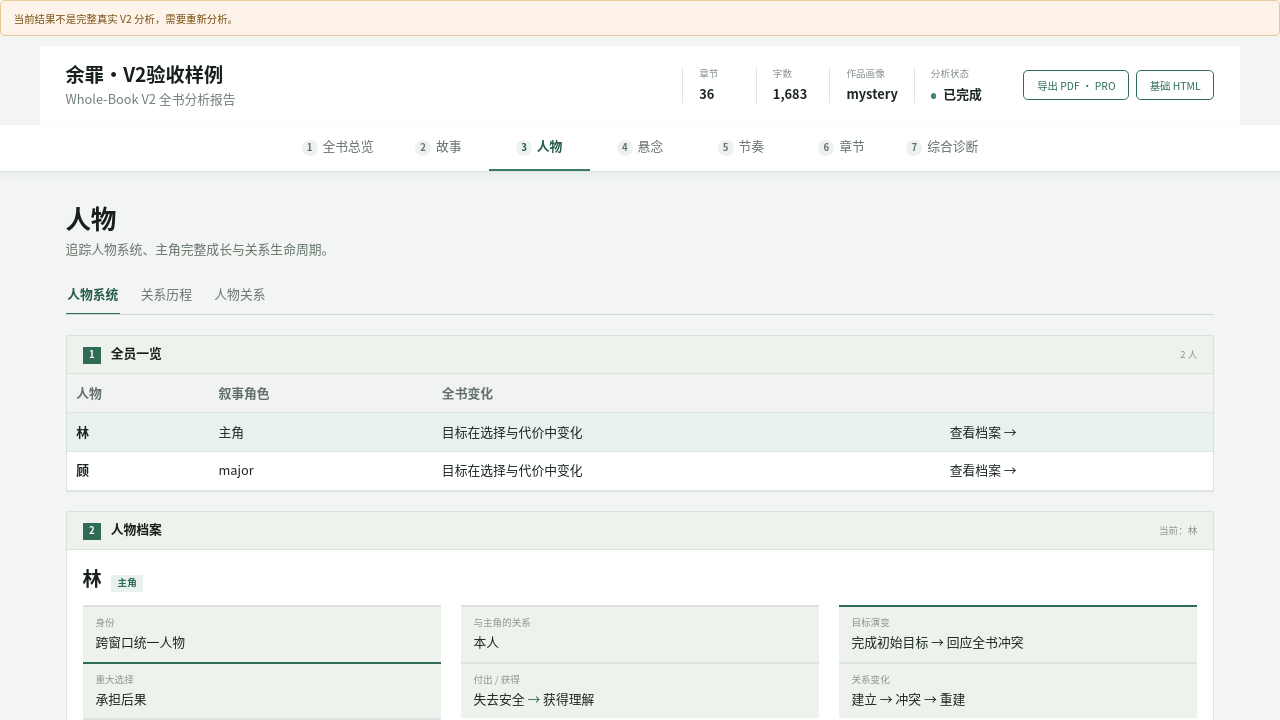
it: 历程图本身 › 旧报告没有 down 字段时，按数值判断跌在哪
Click the button "关系历程" at [166, 294], box 139,275 -> 194,314
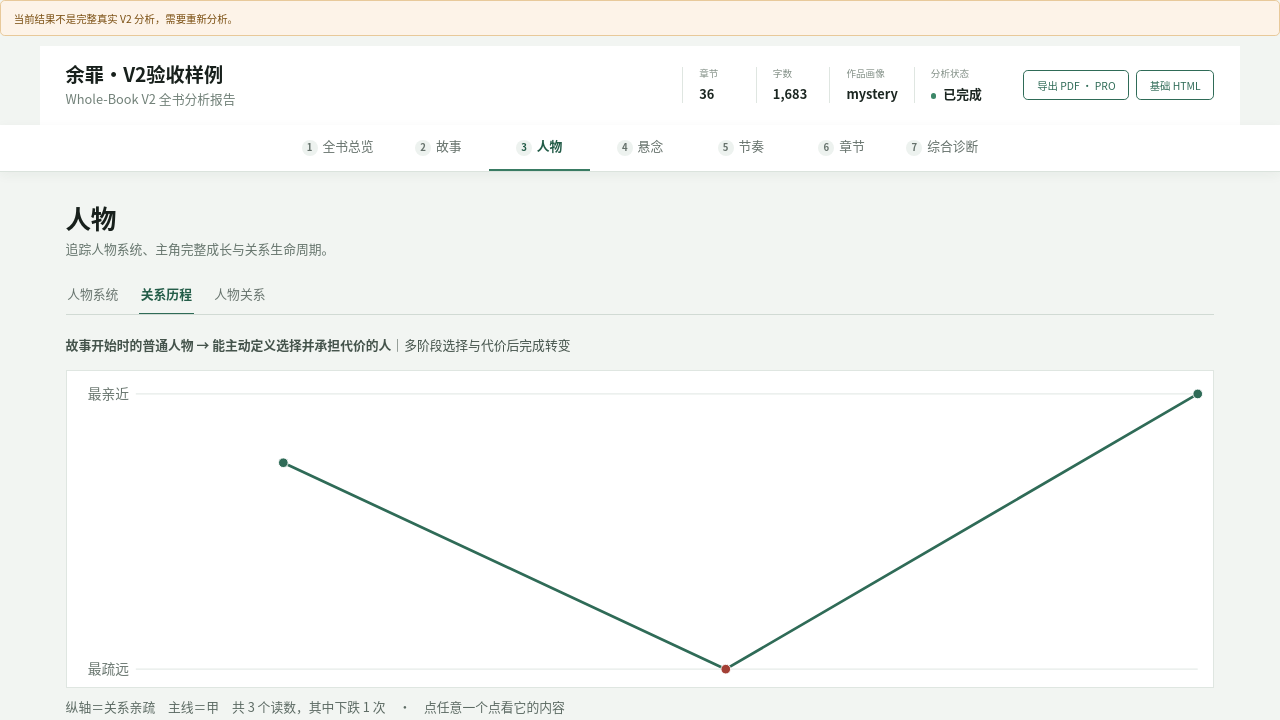
expect the text "纵轴＝关系亲疏 主线＝甲 共 3 个读数，其中下跌 1 次 · 点任意一个点看它的内容" is shown: met, box 66,697 -> 565,716
